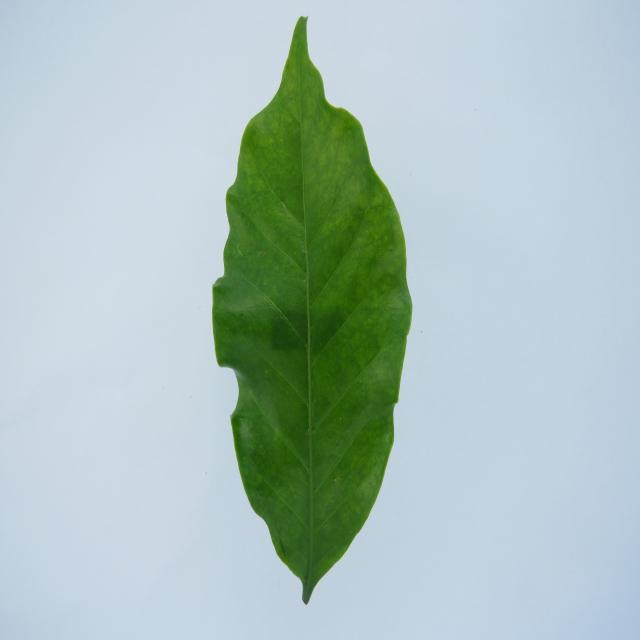DeficienciaNutricional-Hierro: (212, 17, 411, 603)
